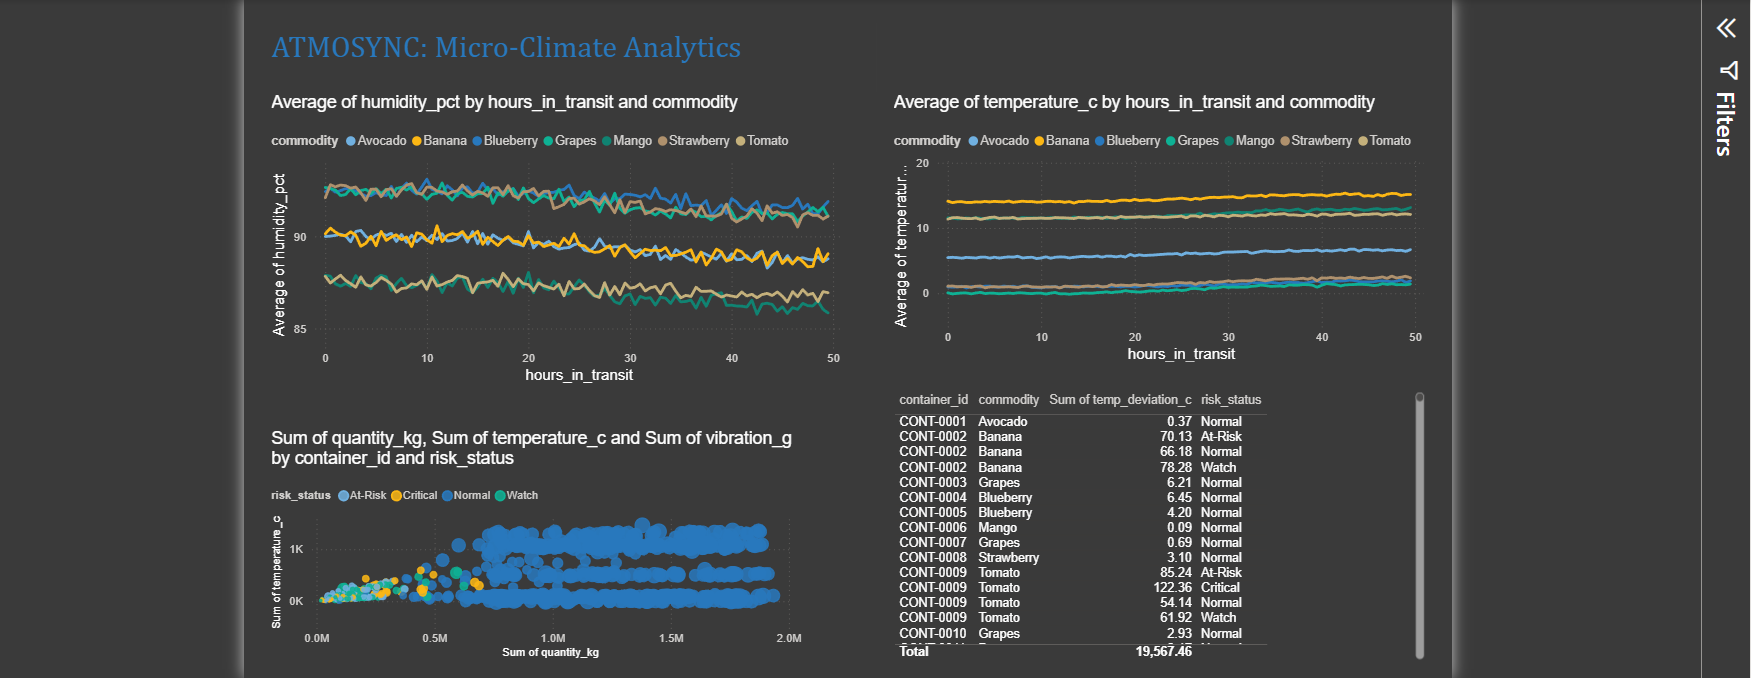

The page's visual inventory and layout, read from the dashboard file:
{"tool":"powerbi","page":{"name":"environmental monitoring","canvas":[1280,720],"ordinal":1},"visuals":[{"type":"lineChart","fields":{"Category":["cleaned_dataset.hours_in_transit"],"Y":["Avg(cleaned_dataset.humidity_pct)"],"Series":["cleaned_dataset.commodity"]},"box":[23.9,98.6,615.6,313.4],"z":0},{"type":"lineChart","fields":{"Category":["cleaned_dataset.hours_in_transit"],"Y":["Avg(cleaned_dataset.temperature_c)"],"Series":["cleaned_dataset.commodity"]},"box":[684,98.6,572.6,291.1],"z":1000},{"type":"scatterChart","fields":{"X":["Sum(cleaned_dataset.quantity_kg)"],"Y":["Sum(cleaned_dataset.temperature_c)"],"Size":["Sum(cleaned_dataset.vibration_g)"],"Category":["cleaned_dataset.container_id"],"Series":["cleaned_dataset.risk_status"]},"box":[23.9,454.9,572.6,249.7],"z":2000},{"type":"tableEx","fields":{"Values":["cleaned_dataset.container_id","cleaned_dataset.commodity","Sum(cleaned_dataset.temp_deviation_c)","cleaned_dataset.risk_status"]},"box":[684,412,572.6,292.7],"z":3000},{"type":"textbox","box":[23.9,25.4,647.4,73.2],"z":4000}]}

Visuals, with their boxes on the page's 1280x720 design canvas (x1, y1, x2, y2). These are canvas units, not pixel positions in the 1751x678 screenshot, which may show the page scaled, cropped or inside an application window:
lineChart - cleaned_dataset.hours_in_transit x Avg(cleaned_dataset.humidity_pct): <box>24,99,640,412</box>
lineChart - cleaned_dataset.hours_in_transit x Avg(cleaned_dataset.temperature_c): <box>684,99,1257,390</box>
scatterChart - Sum(cleaned_dataset.quantity_kg) x Sum(cleaned_dataset.temperature_c): <box>24,455,596,705</box>
tableEx - cleaned_dataset.container_id x cleaned_dataset.commodity: <box>684,412,1257,705</box>
textbox: <box>24,25,671,99</box>
